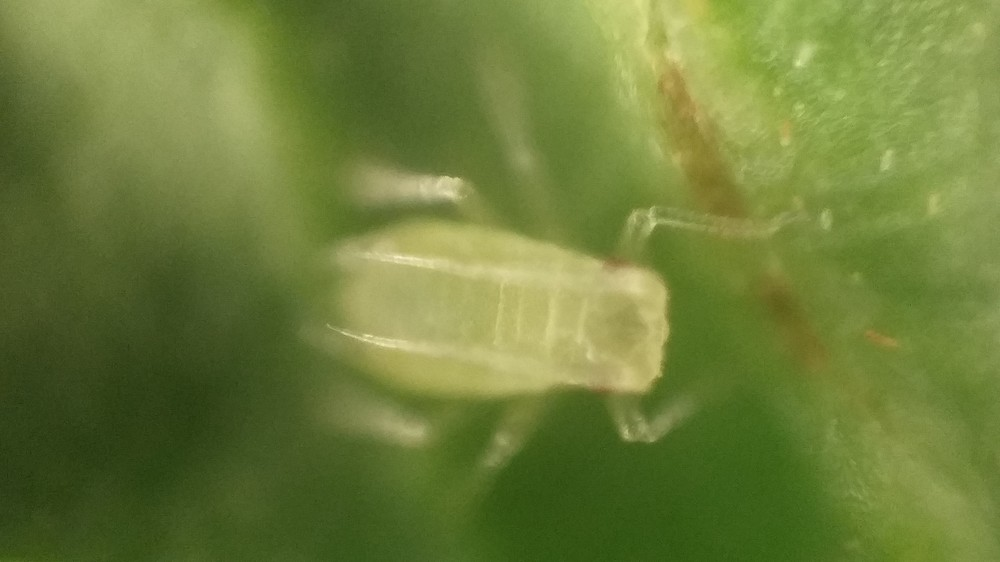Pulgon: (232, 109, 871, 527)
